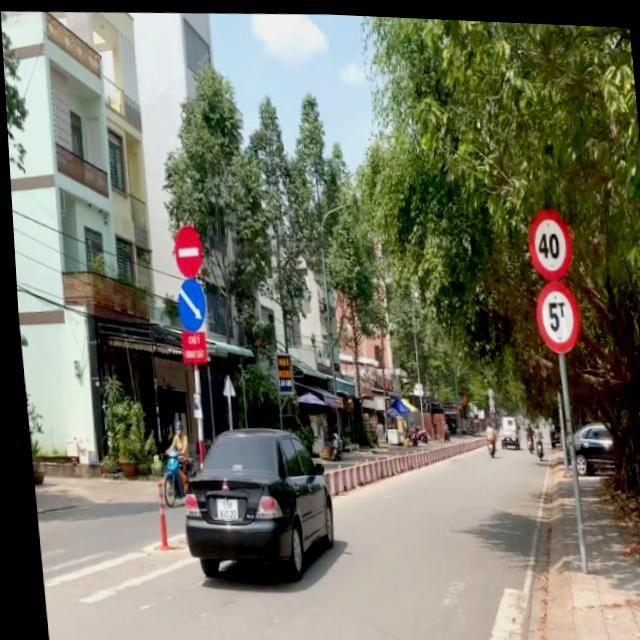Cam di nguoc chieu: (168, 220, 203, 278)
Toc do toi da cho phep: (523, 203, 571, 277)
Vong chuong ngai vat sang phai: (170, 272, 205, 334)
